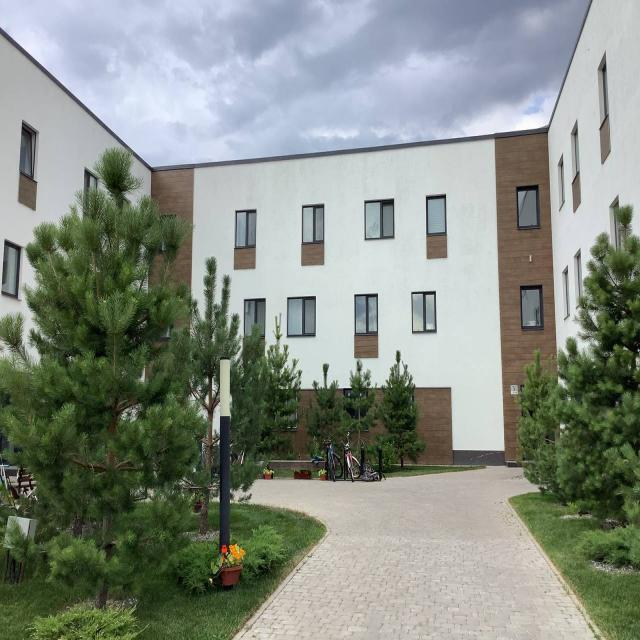Building: (0, 0, 640, 465)
